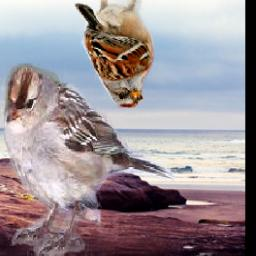Sparrow: (0, 65, 176, 256), (75, 0, 154, 109)
